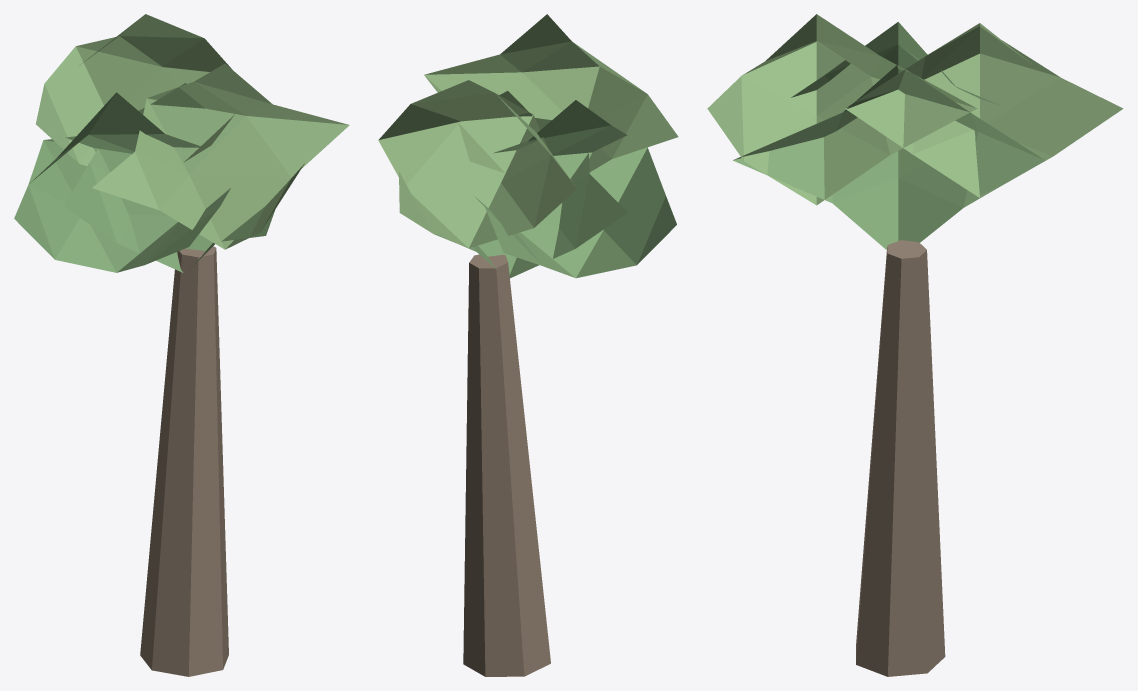
File: broadleaf_v24.glb
3 views of the same model, side by side, from view 1: azimuth 30°, elevation 25°; view 2: azimuth 150°, elevation 25°; view 3: azimuth 270°, elevation 25° (orthographic). The views are drawn at different scales.
Parts seen in each view (by area): view 1: lod0; view 2: lod0; view 3: lod0.
Boxes of the visible parts, box(x1,y1,x2,y2) form: lod0: box(14, 14, 349, 676); lod0: box(378, 14, 678, 676); lod0: box(707, 14, 1123, 676).
Size of what is drawn, in the model's own units: 2.69 by 5.44 by 3.19.
